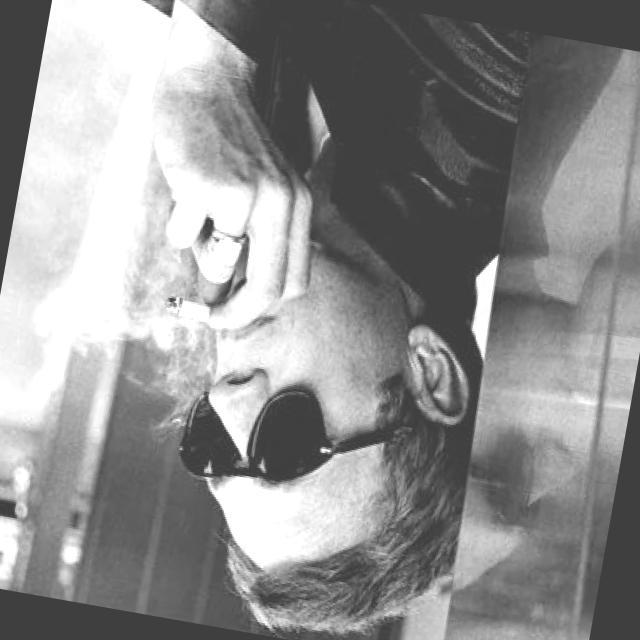cigarette: (158, 290, 222, 324)
